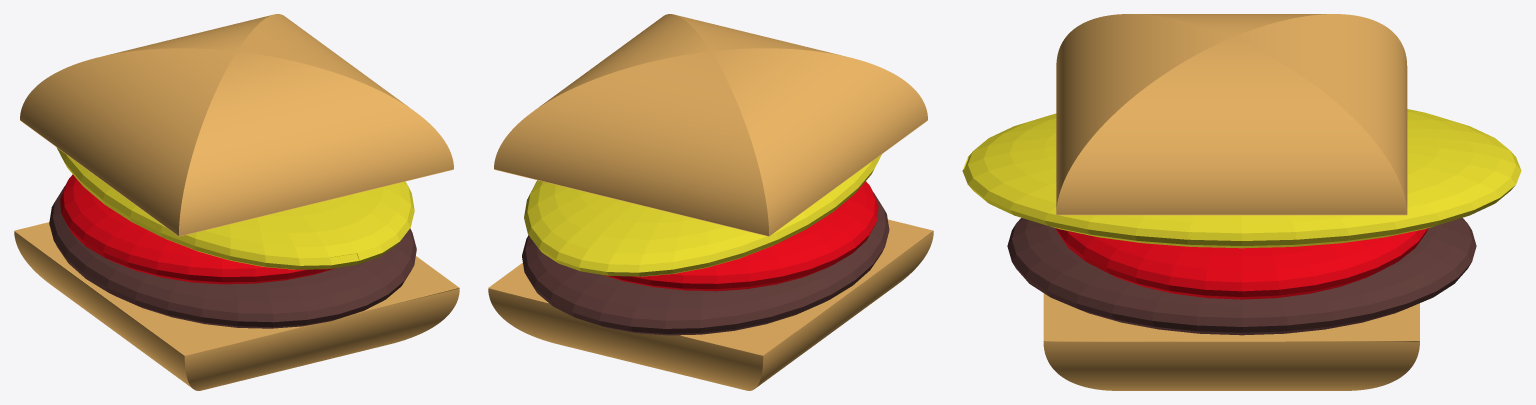
Rendered from HealthyFood.fbx.
3 renders of one model, left to right at view 1: azimuth 30°, elevation 25°; view 2: azimuth 150°, elevation 25°; view 3: azimuth 270°, elevation 25°, orthographic. The views are drawn at different scales.
Visible parts, largest first — view 1: Cube, Cube.001, Sphere, Sphere.002, Sphere.001; view 2: Cube, Cube.001, Sphere.002, Sphere, Sphere.001; view 3: Cube, Sphere.002, Cube.001, Sphere, Sphere.001.
Boxes of the visible parts, x1=… form: Cube: x1=20, y1=14, x2=453, y2=236; Cube.001: x1=14, y1=222, x2=459, y2=390; Sphere: x1=49, y1=186, x2=416, y2=328; Sphere.002: x1=56, y1=147, x2=414, y2=269; Sphere.001: x1=60, y1=174, x2=334, y2=284; Cube: x1=494, y1=14, x2=927, y2=236; Cube.001: x1=488, y1=219, x2=933, y2=390; Sphere.002: x1=524, y1=154, x2=881, y2=276; Sphere: x1=522, y1=192, x2=889, y2=335; Sphere.001: x1=603, y1=181, x2=878, y2=291; Cube: x1=1056, y1=14, x2=1407, y2=215; Sphere.002: x1=962, y1=109, x2=1521, y2=248; Cube.001: x1=1043, y1=293, x2=1419, y2=390; Sphere: x1=1007, y1=218, x2=1476, y2=335; Sphere.001: x1=1055, y1=228, x2=1428, y2=299.
Bounding box in the file's own units: 200 × 190 × 292.
